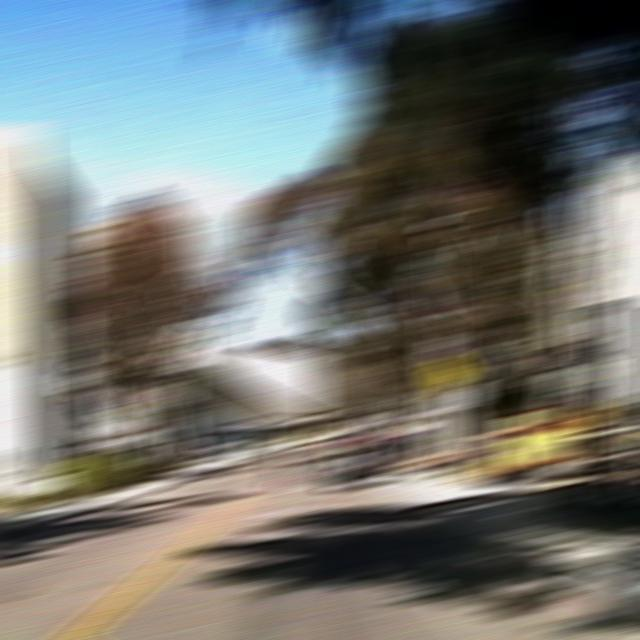pedestrianCrossing: (426, 354, 469, 389)
